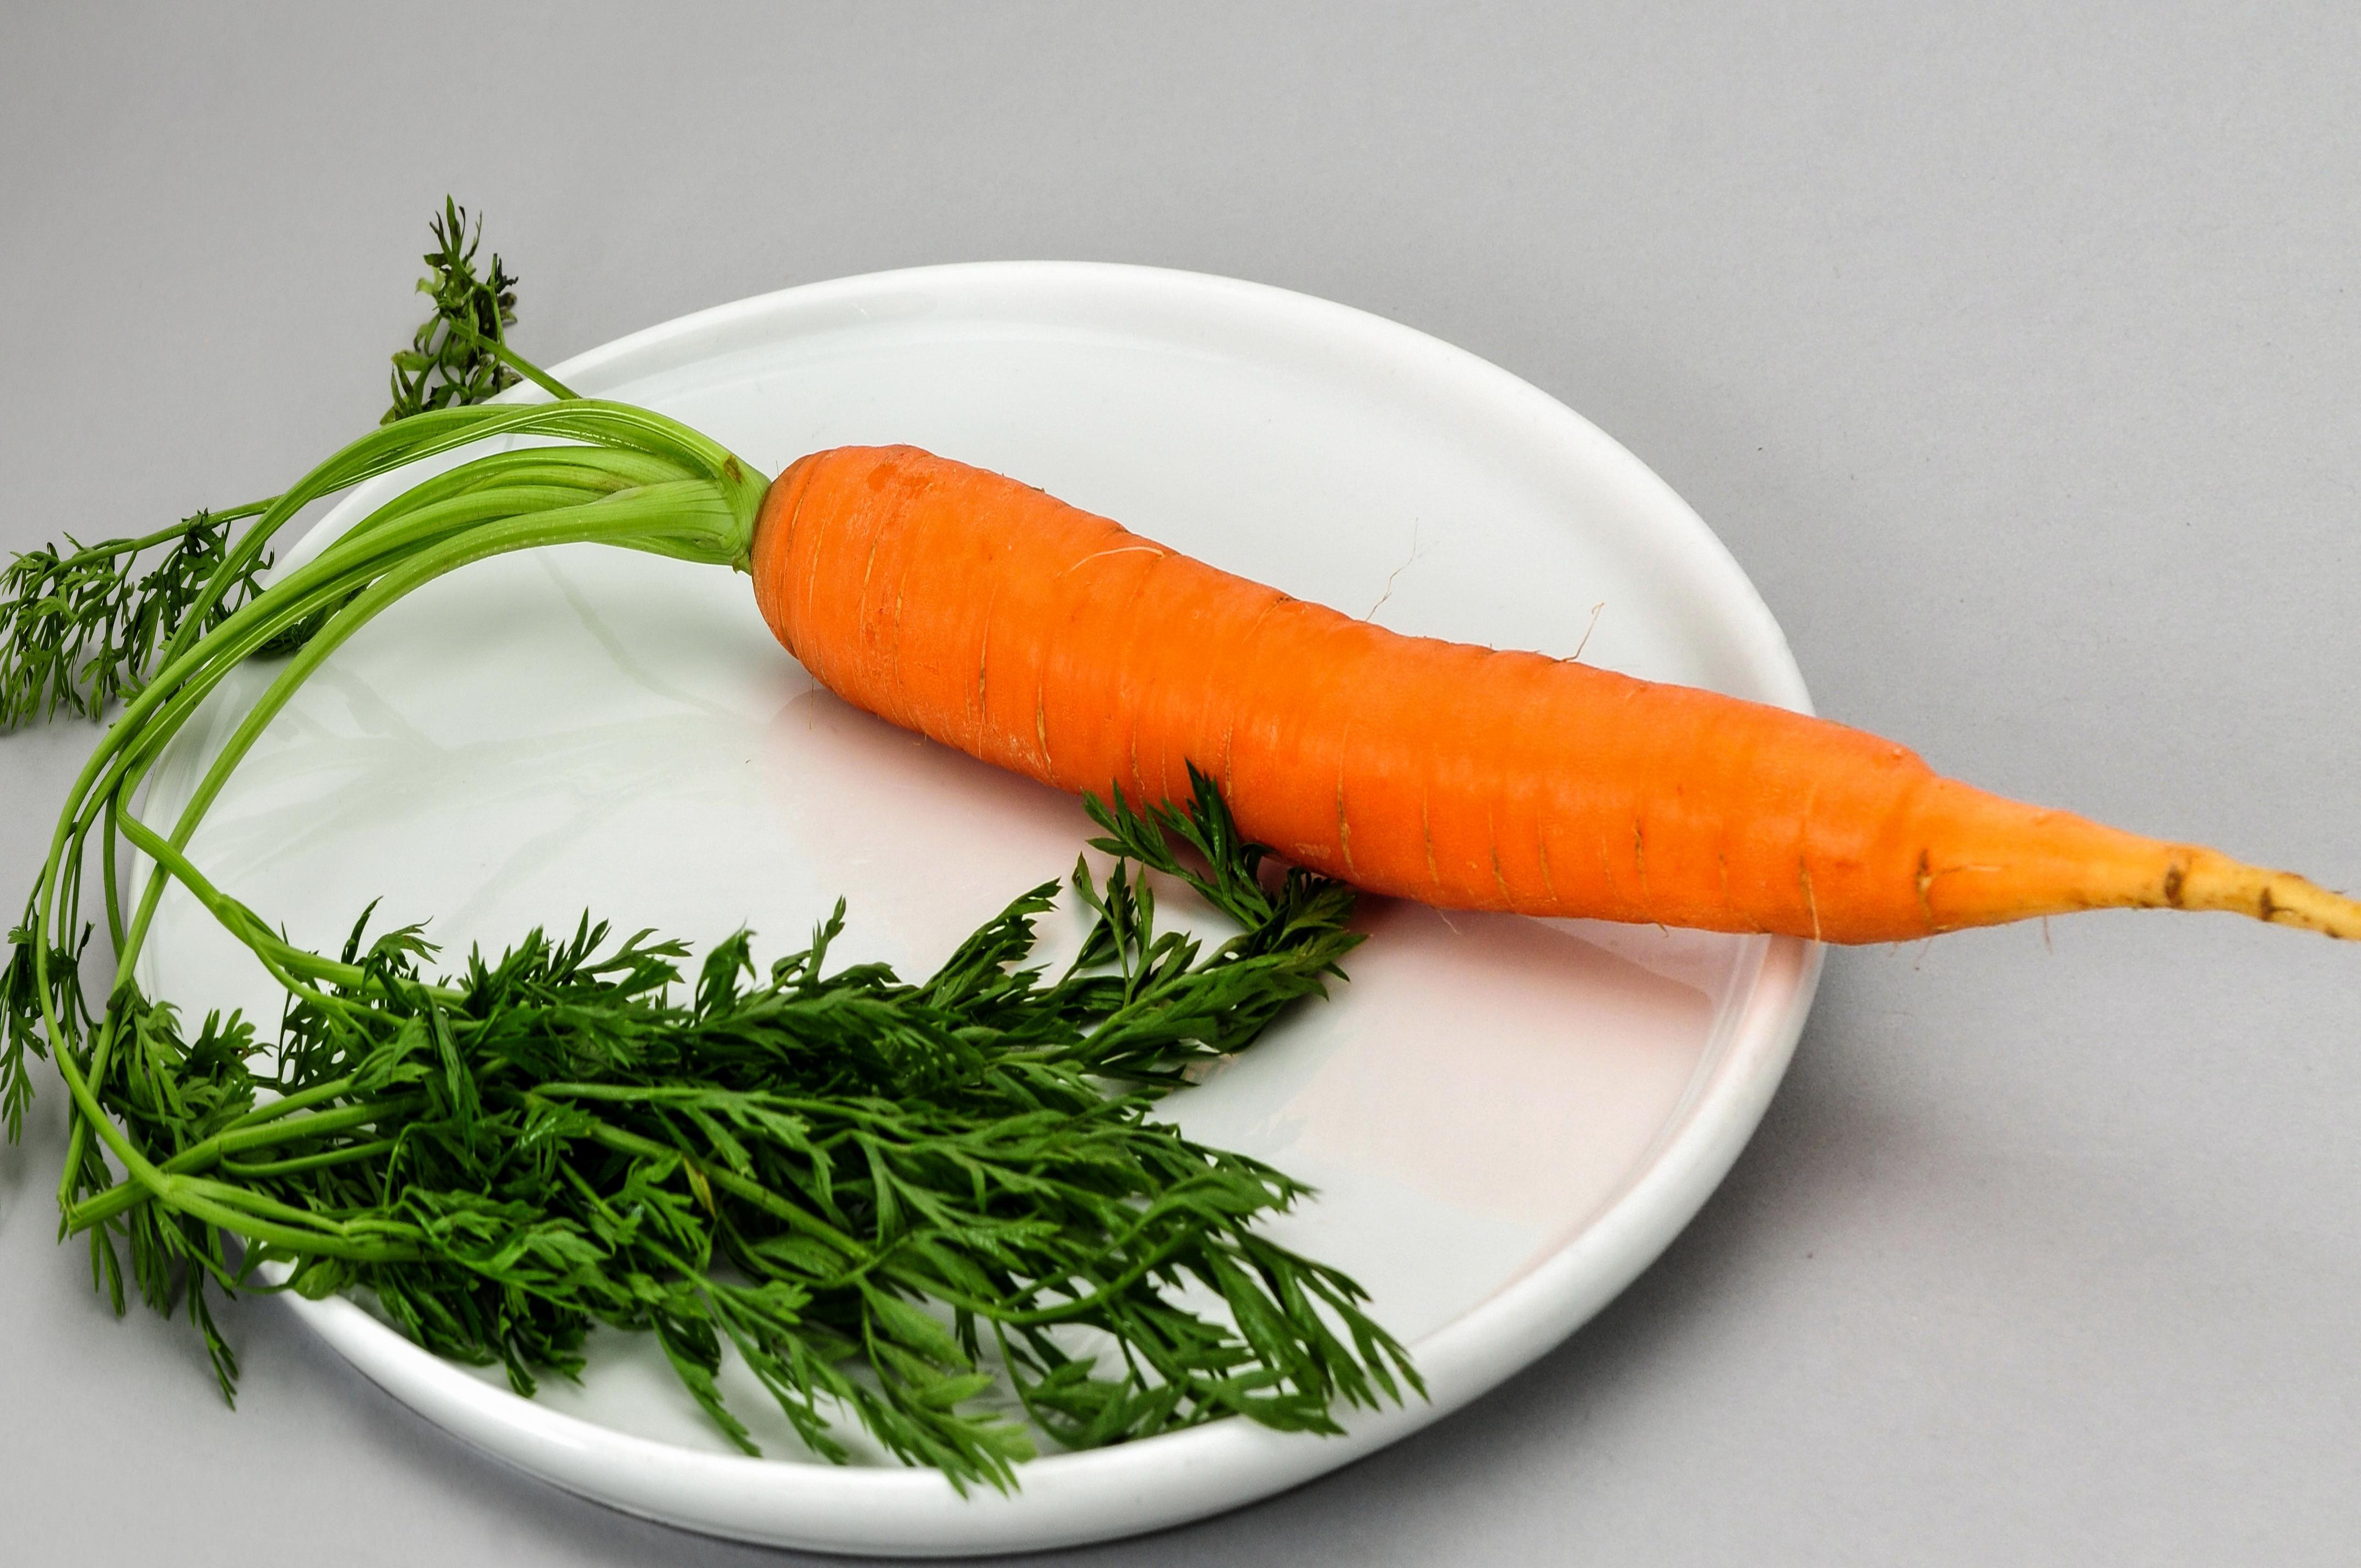carrot: (637, 397, 2361, 1024)
